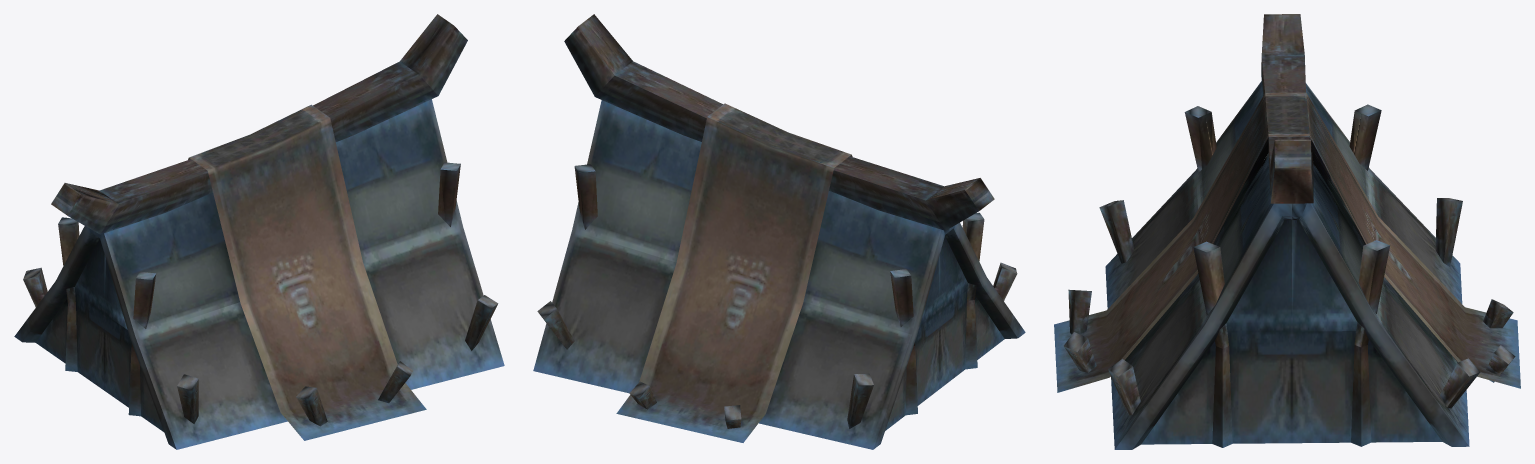
3 renders of one model, left to right at view 1: azimuth 30°, elevation 25°; view 2: azimuth 150°, elevation 25°; view 3: azimuth 270°, elevation 25°, orthographic. The views are drawn at different scales.
Visible parts, largest first — view 1: Mesh_polySurface1139; view 2: Mesh_polySurface1139; view 3: Mesh_polySurface1139.
Boxes of the visible parts, <box> form: Mesh_polySurface1139: <box>14,14,504,449</box>; Mesh_polySurface1139: <box>533,14,1025,449</box>; Mesh_polySurface1139: <box>1054,14,1520,449</box>.
Bounding box in the file's own units: 6.76 × 4.58 × 5.95.
